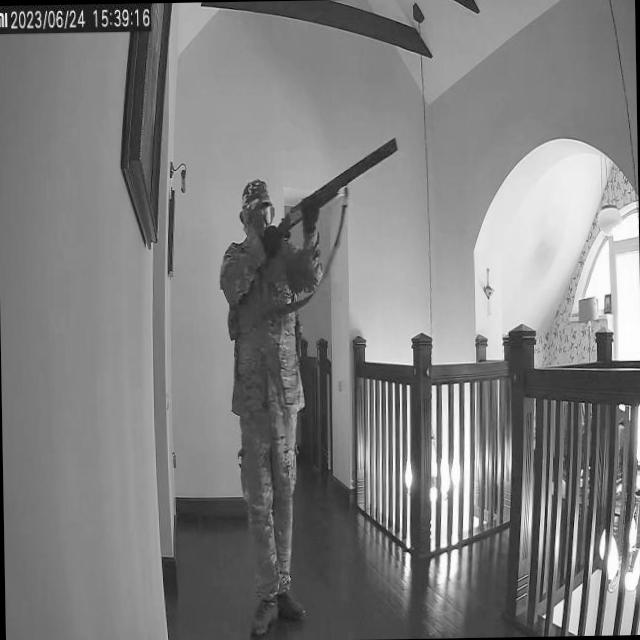gun: (254, 134, 401, 228)
person with a gun: (216, 134, 409, 637)
